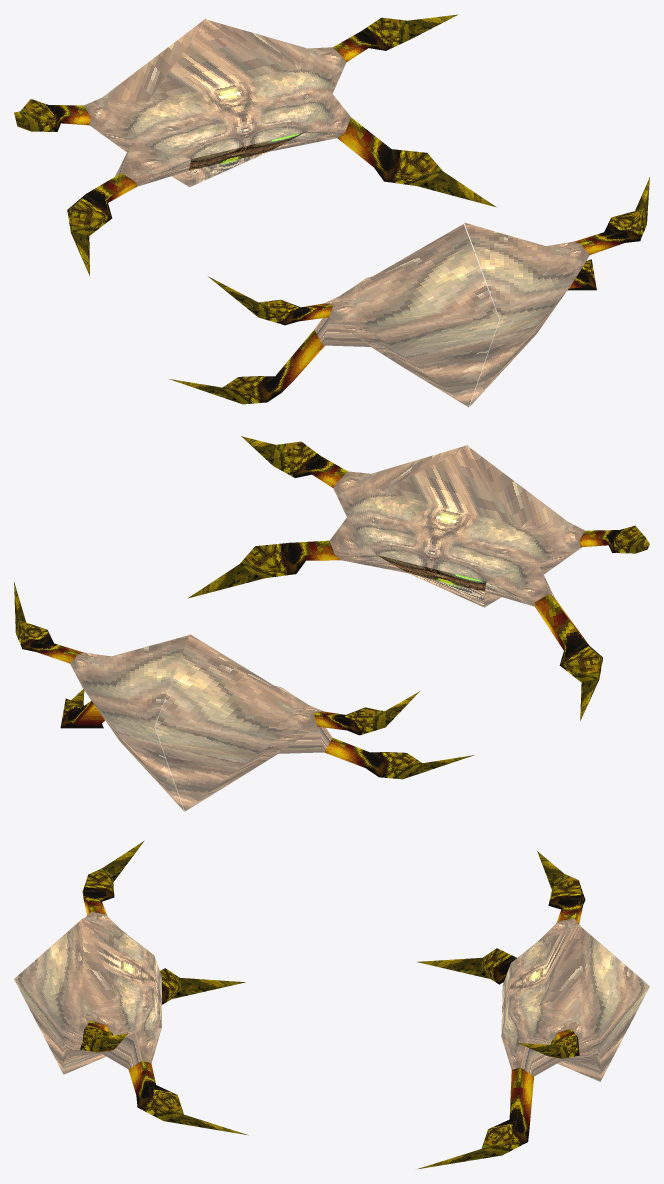
The model's file is mjumpgate_3db.gltf.
The picture shows the model from 3 angles, top to bottom: view 1: azimuth 30°, elevation 25°; view 2: azimuth 150°, elevation 25°; view 3: azimuth 270°, elevation 25°; orthographic projection. The views are drawn at different scales.
Parts seen in each view (by area): view 1: mjumpgate.3db; view 2: mjumpgate.3db; view 3: mjumpgate.3db.
Boxes of the visible parts, box(x1,y1,x2,y2) form: mjumpgate.3db: box(14, 14, 649, 407); mjumpgate.3db: box(14, 436, 649, 811); mjumpgate.3db: box(14, 840, 649, 1169).
Size of the model in its own units: 24.21 by 8.89 by 32.13.
3 materials, 3 textured.
